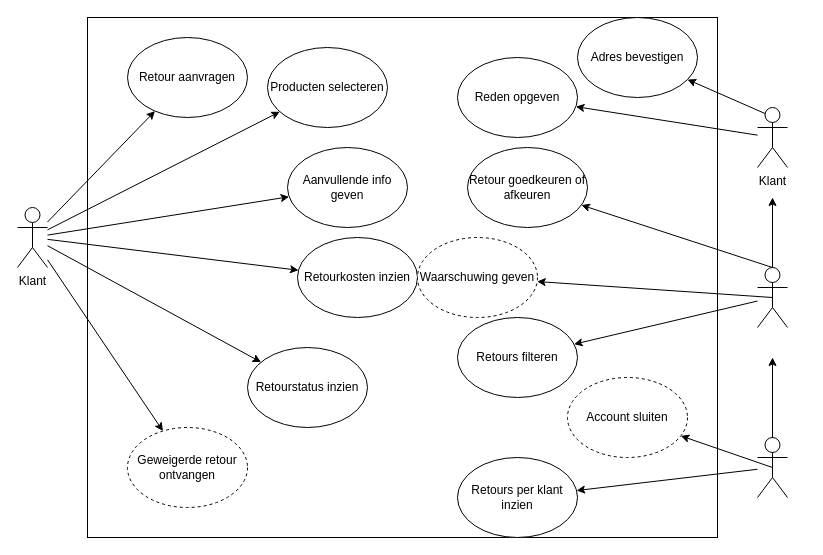
Image size: 823x555. Some labels were removed from this diagram. Each missing label, with the box of its shape:
Beheerder: (756, 436, 788, 498)
Medewerker: (756, 266, 788, 328)
